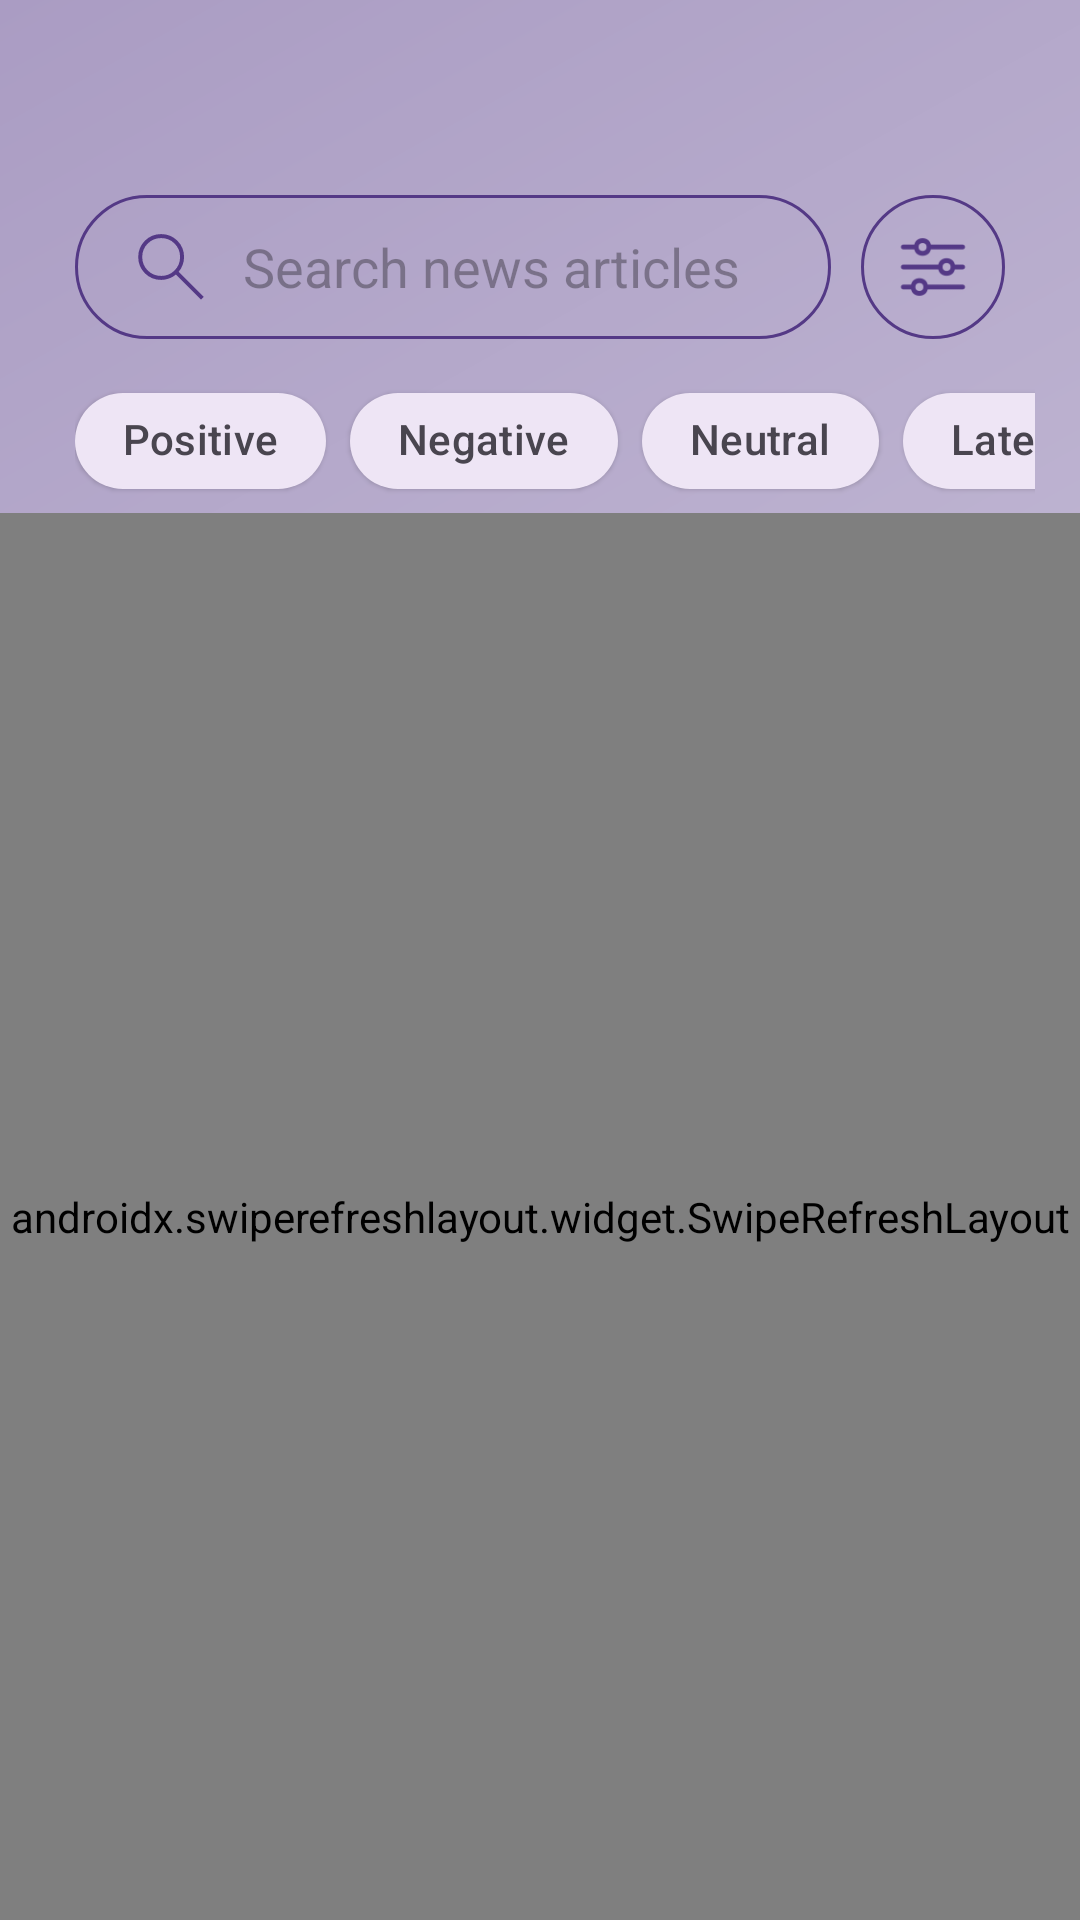

Locate icon controls on the screen. Image size 1080 x 1920, boxes as (x1, y1, x2, y2).
settings: (861, 195, 1005, 339)
